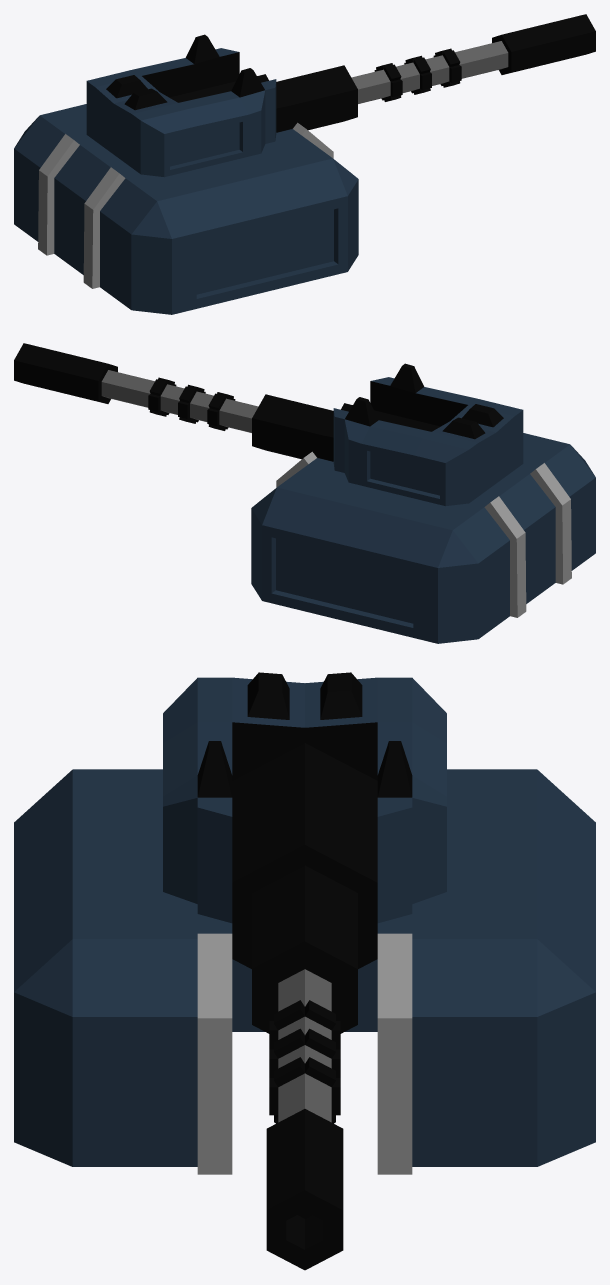
The model's file is SniperGun.glb.
The picture shows the model from 3 angles, top to bottom: view 1: azimuth 30°, elevation 25°; view 2: azimuth 150°, elevation 25°; view 3: azimuth 270°, elevation 25°; orthographic projection. The views are drawn at different scales.
Visible parts, largest first — view 1: TowerFull; view 2: TowerFull; view 3: TowerFull.
Part boxes in pixels (x1,y1,x2,y2): TowerFull: [14, 14, 595, 314]; TowerFull: [14, 343, 595, 643]; TowerFull: [14, 672, 595, 1270].
Bounding box in the file's own units: 534 × 173 × 261.
Materials: 4 (1 with a texture image).
